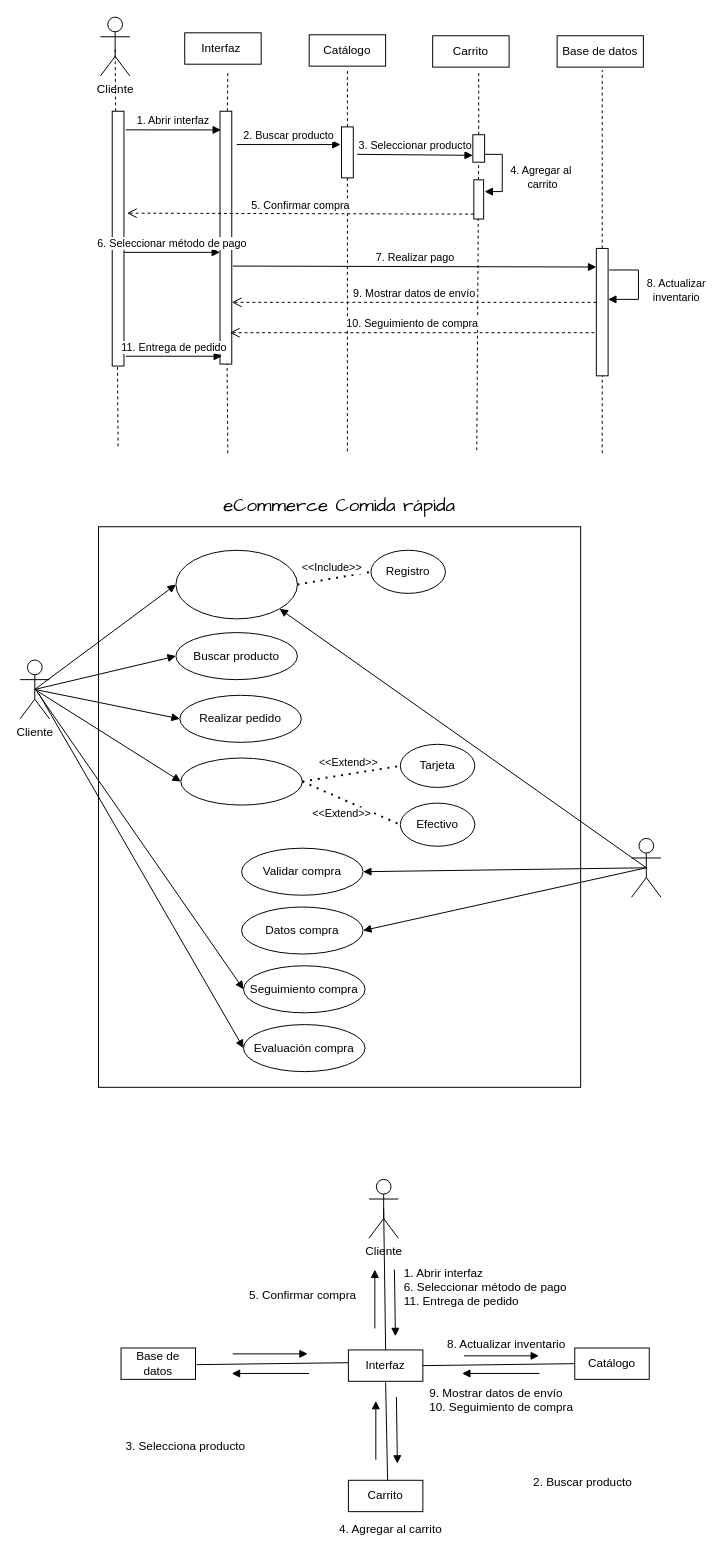
Some shapes in this 725 by 1561 pixel diagram are drawn without their labels. Here are the shapes that lost their labels. From the top down, the box of each, then its label:
(175, 549, 297, 619): Actualizar ubicación
(180, 757, 302, 805): Realizar pago
(631, 837, 661, 897): Sistema
